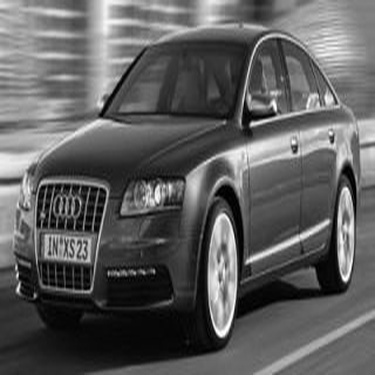car: (7, 17, 368, 358)
